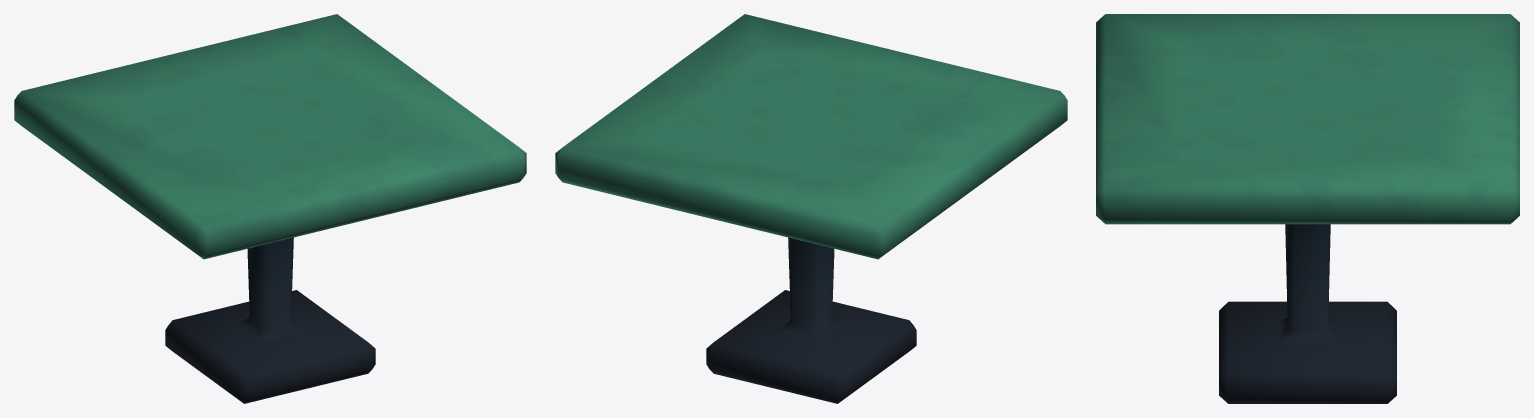
The model's file is table.fbx.
3 views of the same model, side by side, from view 1: azimuth 30°, elevation 25°; view 2: azimuth 150°, elevation 25°; view 3: azimuth 270°, elevation 25° (orthographic). The views are drawn at different scales.
Parts seen in each view (by area): view 1: Cube.001; view 2: Cube.001; view 3: Cube.001.
Part boxes in pixels (x1,y1,x2,y2): Cube.001: (14, 14, 526, 403); Cube.001: (555, 14, 1067, 403); Cube.001: (1096, 14, 1519, 403).
Bounding box in the file's own units: 454 × 454 × 320.
1 material, 1 textured.
